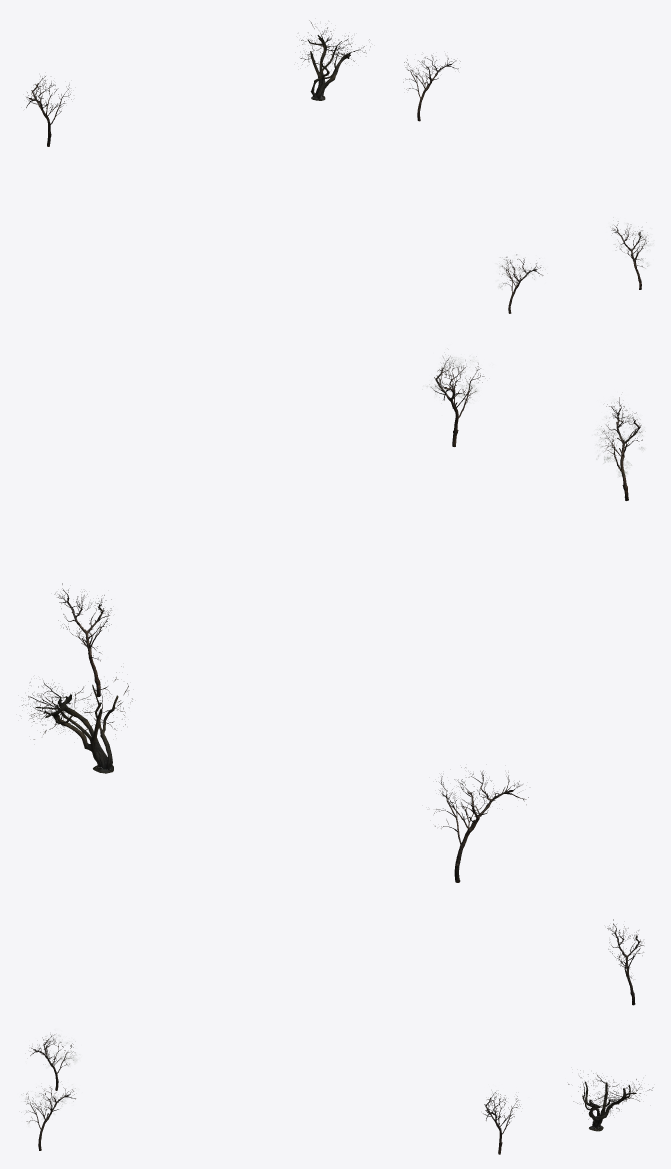
Rendered from trees-light.glb.
3 views of the same model, one above another, from view 1: azimuth 30°, elevation 25°; view 2: azimuth 150°, elevation 25°; view 3: azimuth 270°, elevation 25° (orthographic). The views are drawn at different scales.
Visible parts, largest first — view 1: V|treelight|garden|tree_small_02_wood.002, V|treelight|garden|tree_small_02_wood.005, V|treelight|garden|tree_small_02_wood.004; view 2: V|treelight|garden|tree_small_02_wood.002, V|treelight|garden|tree_small_02_wood.005, V|treelight|garden|tree_small_02_wood.004, V|treelight|garden|tree_small_02_wood.003; view 3: V|treelight|garden|tree_small_02_wood.002, V|treelight|garden|tree_small_02_wood.004, V|treelight|garden|tree_small_02_wood.005, V|treelight|garden|tree_small_02_wood.003.
Boxes of the visible parts, box(x1,y1,x2,y2) form: V|treelight|garden|tree_small_02_wood.002: box(29, 62, 644, 313); V|treelight|garden|tree_small_02_wood.005: box(307, 35, 350, 100); V|treelight|garden|tree_small_02_wood.004: box(26, 55, 648, 287); V|treelight|garden|tree_small_02_wood.002: box(64, 367, 641, 882); V|treelight|garden|tree_small_02_wood.005: box(35, 684, 118, 773); V|treelight|garden|tree_small_02_wood.004: box(54, 356, 642, 831); V|treelight|garden|tree_small_02_wood.003: box(22, 666, 132, 739); V|treelight|garden|tree_small_02_wood.002: box(30, 930, 643, 1154); V|treelight|garden|tree_small_02_wood.004: box(25, 919, 643, 1125); V|treelight|garden|tree_small_02_wood.005: box(582, 1081, 636, 1131); V|treelight|garden|tree_small_02_wood.003: box(568, 1070, 653, 1119).
Size of the model in its own units: 22.29 by 4.38 by 31.65.
6 materials, 6 textured.
